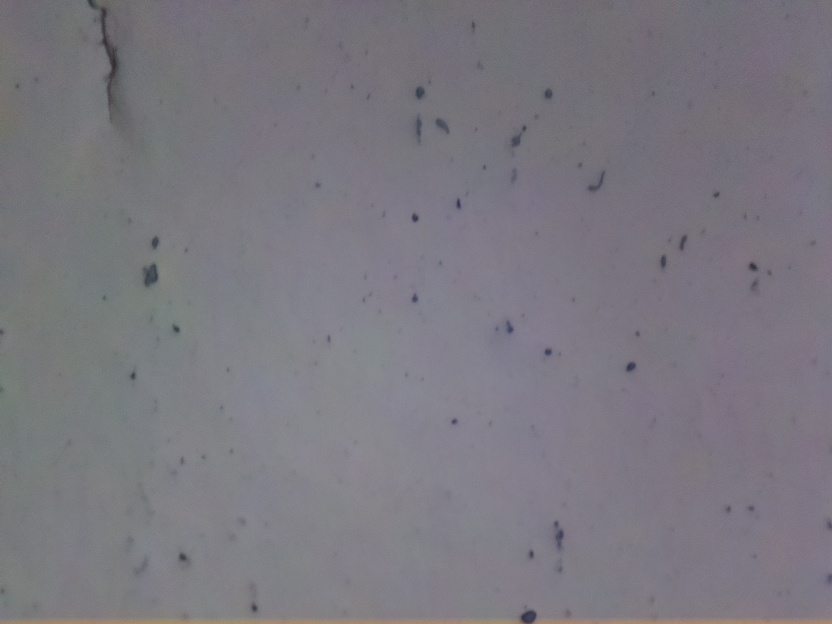crack: (85, 0, 130, 117)
